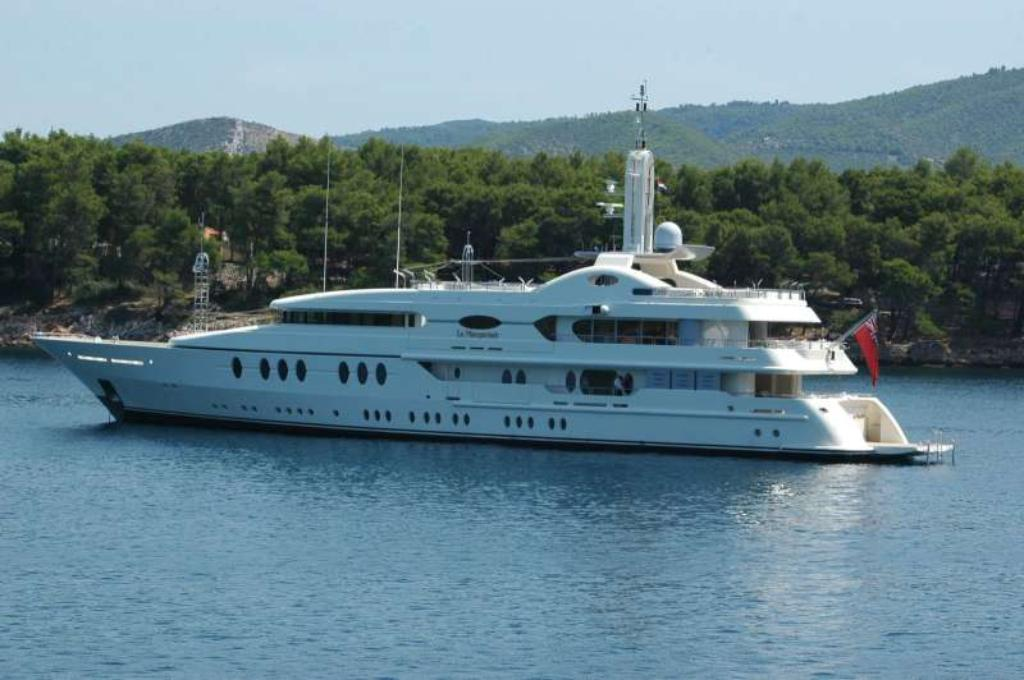PassengerShip: (18, 83, 970, 464)
